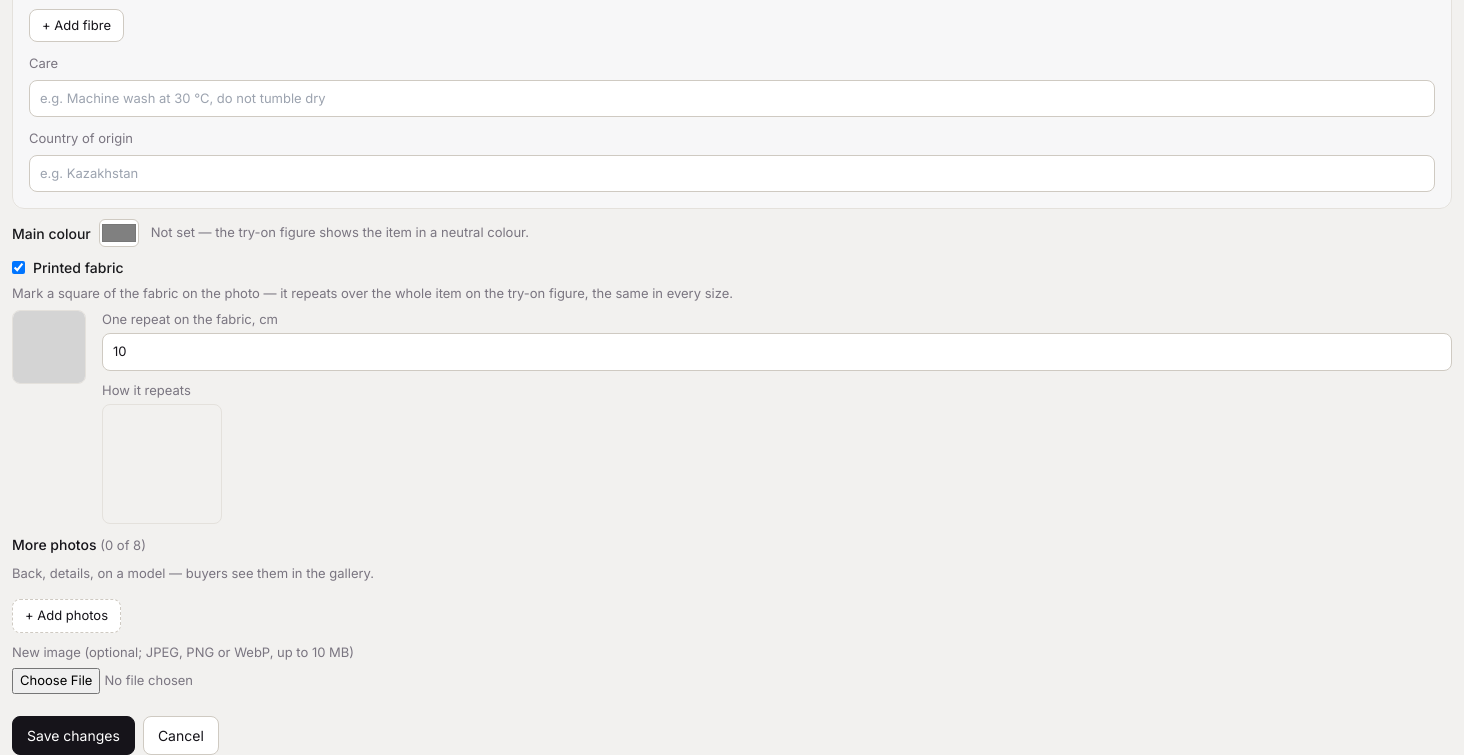
Test: a repeat outside 1…200 cm is named before saving
(page scrolled)
Replace the text in the number field labelled "One repeat on the fabric, cm" with "0": point(777, 352) [102,333,1452,370]
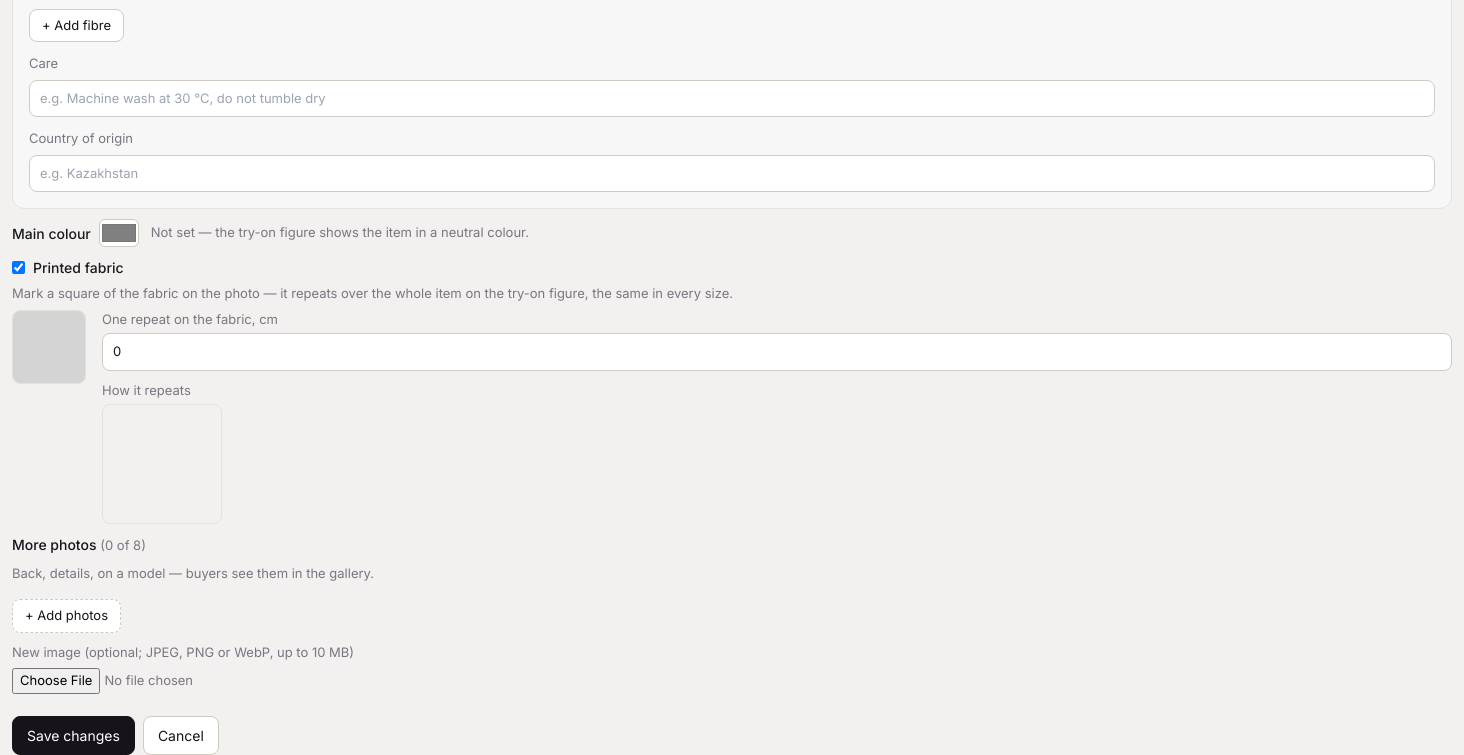
Click the button "Save changes": point(73, 735) [12,716,135,754]
(page scrolled)
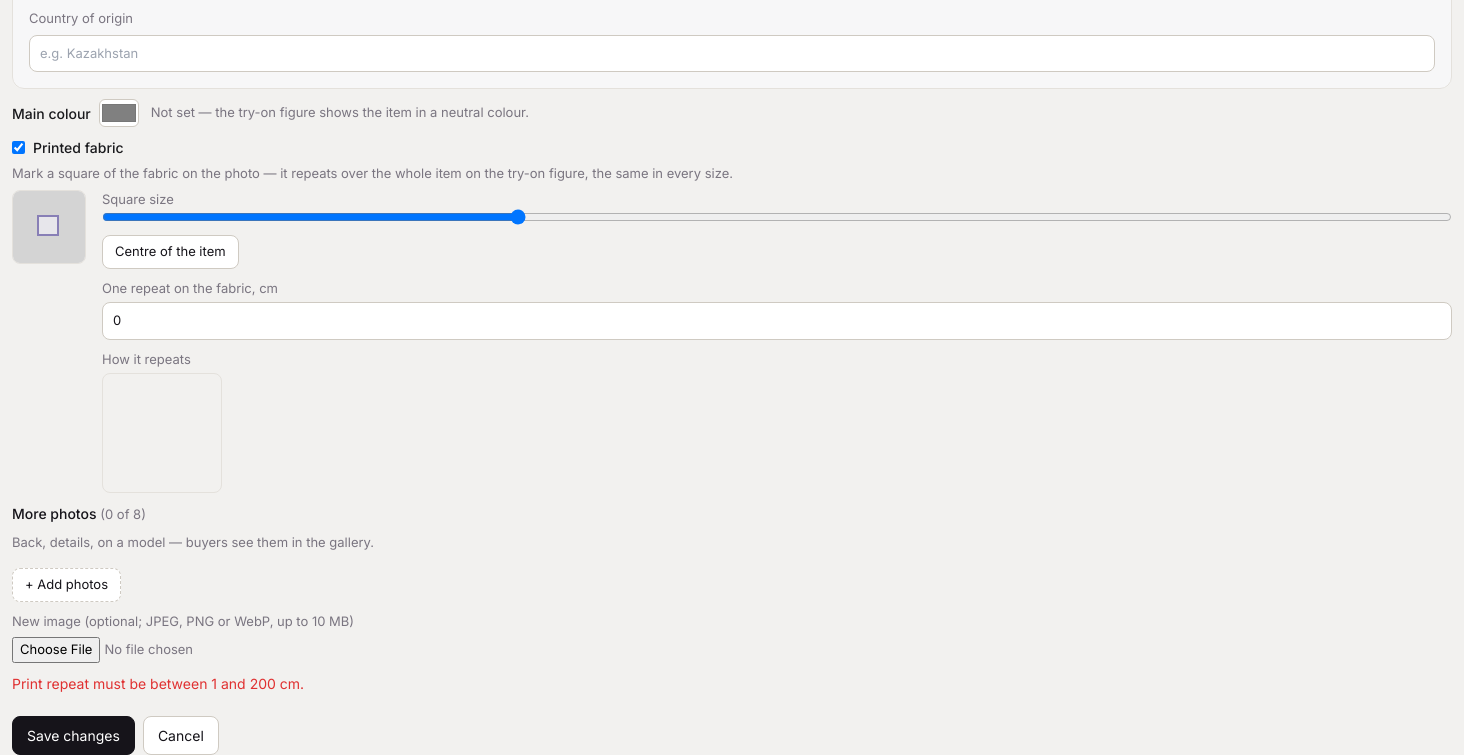
Now the text "Print repeat must be between 1 and 200 cm." is shown, box [12,674,304,692]
